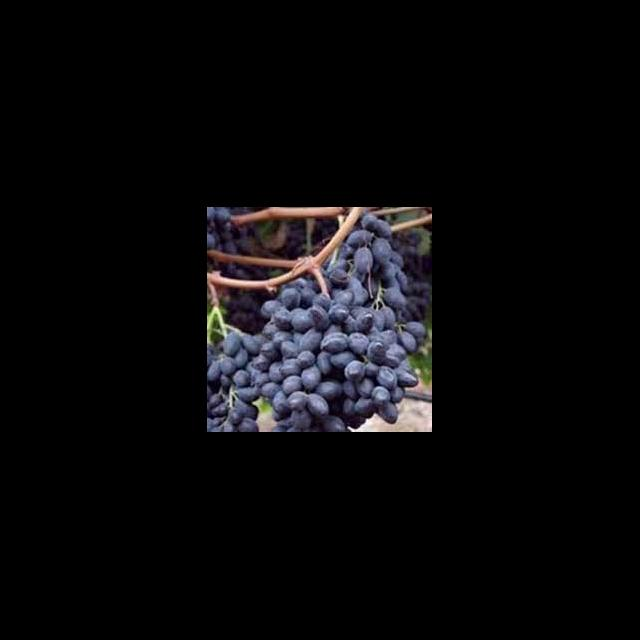grape: (208, 212, 432, 432)
